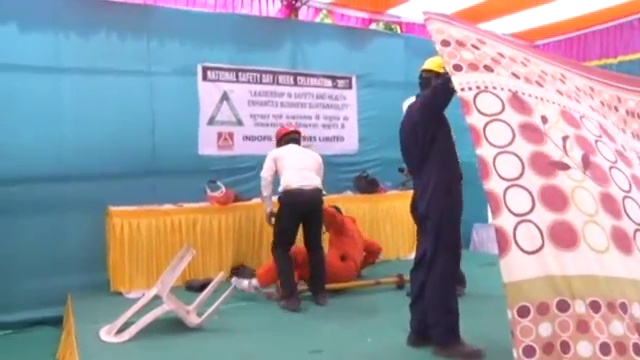helmet: (419, 52, 446, 73), (274, 124, 302, 142)
helmet_on: (416, 52, 446, 93), (272, 123, 303, 150)
person: (398, 50, 487, 358), (226, 202, 383, 291), (259, 124, 329, 312)
